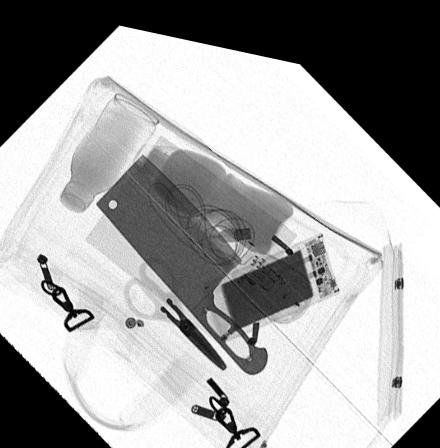Knife: (93, 148, 269, 365)
Powerbank: (204, 216, 341, 332)
Scissors: (123, 249, 227, 362)
